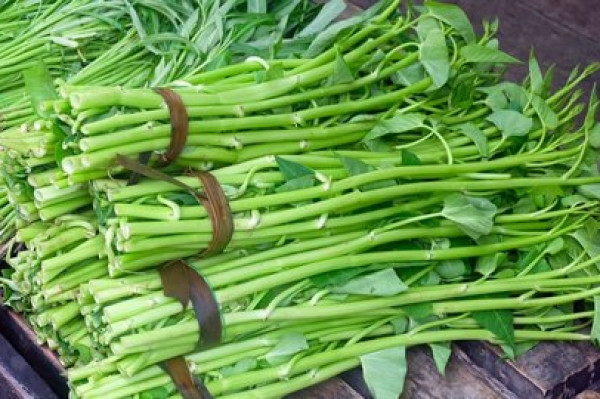Kangkung: (103, 52, 581, 373)
